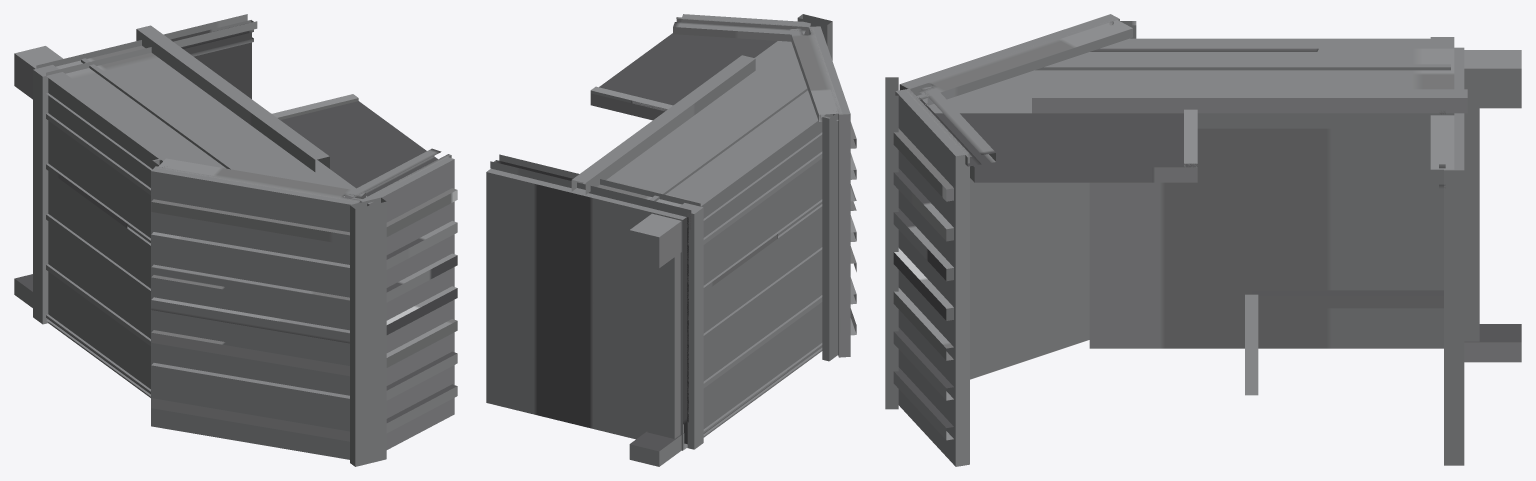
3 renders of one model, left to right at view 1: azimuth 30°, elevation 25°; view 2: azimuth 150°, elevation 25°; view 3: azimuth 270°, elevation 25°, orthographic. The views are drawn at different scales.
Size of the model in its own units: 1.02 by 1.03 by 1.89.
